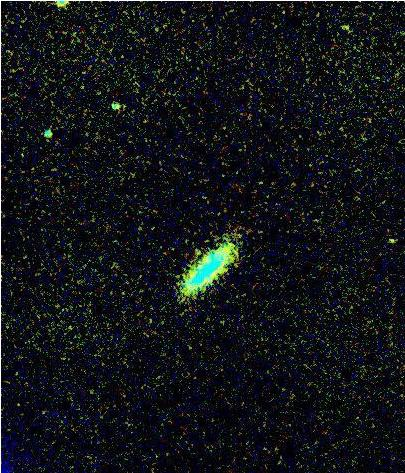star: (185, 242, 215, 272)
